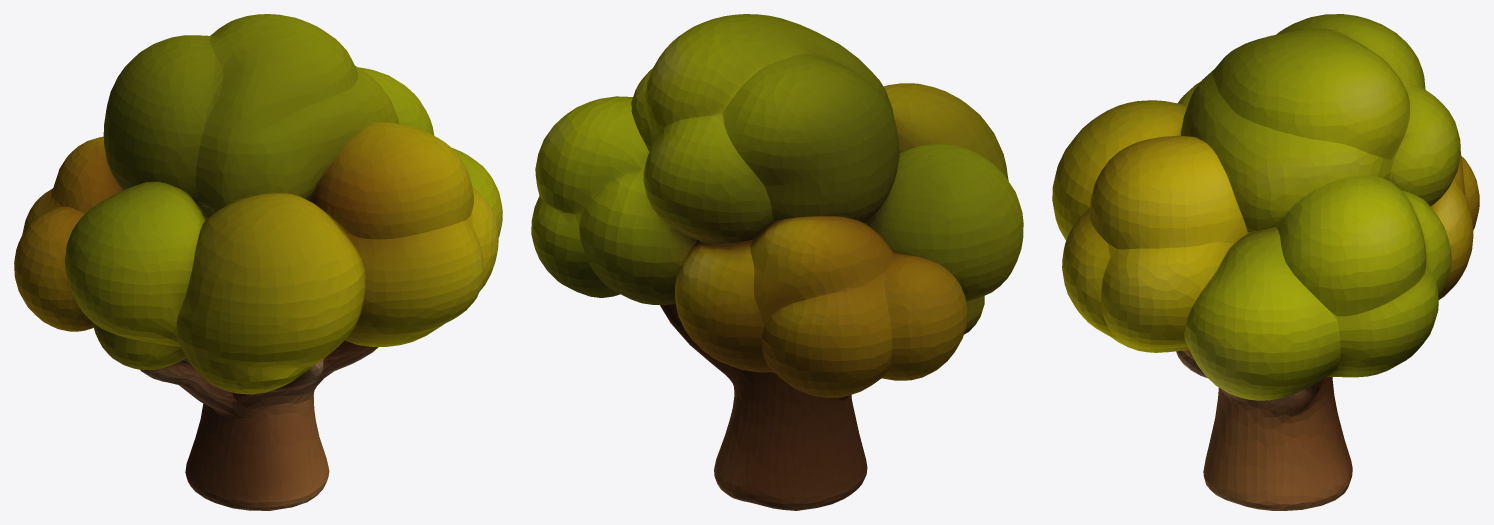
Rendered from arbol.glb.
3 views of the same model, side by side, from view 1: azimuth 30°, elevation 25°; view 2: azimuth 150°, elevation 25°; view 3: azimuth 270°, elevation 25° (orthographic). The views are drawn at different scales.
Parts seen in each view (by area): view 1: world; view 2: world; view 3: world.
Boxes of the visible parts, x1=… form: world: x1=14, y1=14, x2=502, y2=510; world: x1=531, y1=14, x2=1023, y2=510; world: x1=1052, y1=14, x2=1479, y2=510.
Bounding box in the file's own units: 0.7428 × 0.7369 × 0.623.
Materials: 1 (1 with a texture image).
